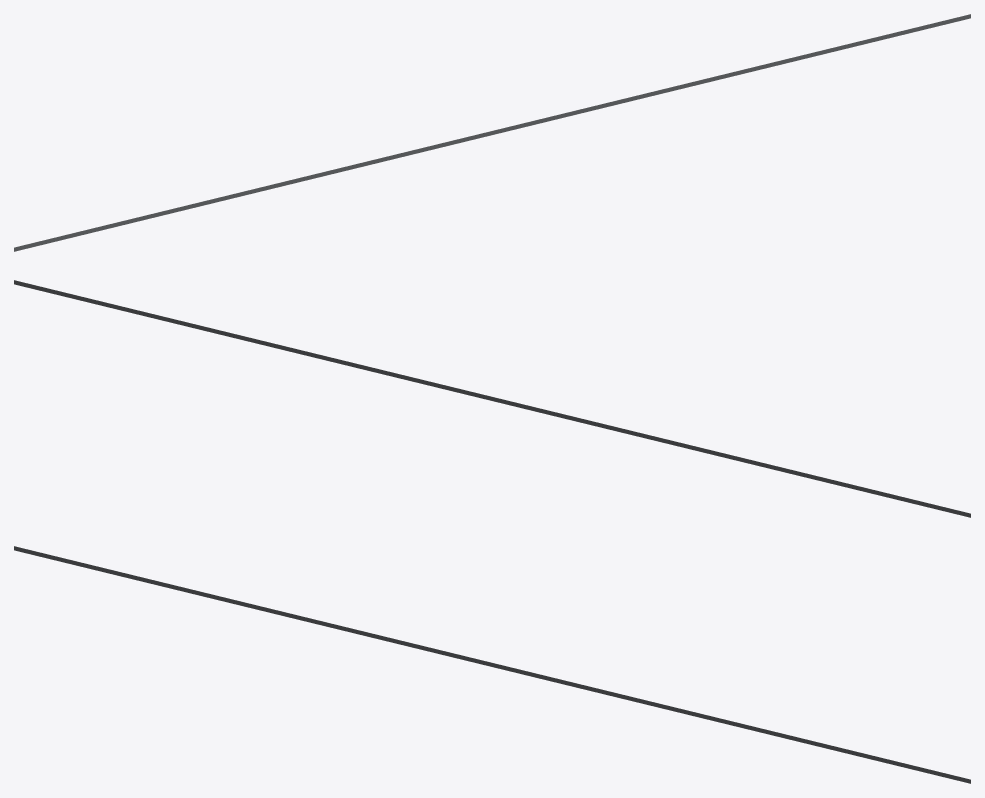
The model's file is kd_stage_135ded_4_96_exterior_piece_10.glb.
3 views of the same model, one above another, from view 1: azimuth 30°, elevation 25°; view 2: azimuth 150°, elevation 25°; view 3: azimuth 330°, elevation 25° (orthographic).
Parts seen in each view (by area): view 1: kd_stage_135ded_4_96_exterior_piece_10; view 2: kd_stage_135ded_4_96_exterior_piece_10; view 3: kd_stage_135ded_4_96_exterior_piece_10.
Part boxes in pixels (x1,y1,x2,y2): kd_stage_135ded_4_96_exterior_piece_10: (14,14,970,251); kd_stage_135ded_4_96_exterior_piece_10: (14,280,970,517); kd_stage_135ded_4_96_exterior_piece_10: (14,546,970,783).
Size of the model in its own units: 4.72 by 0.02 by 0.
Materials: 1 (1 with a texture image).
